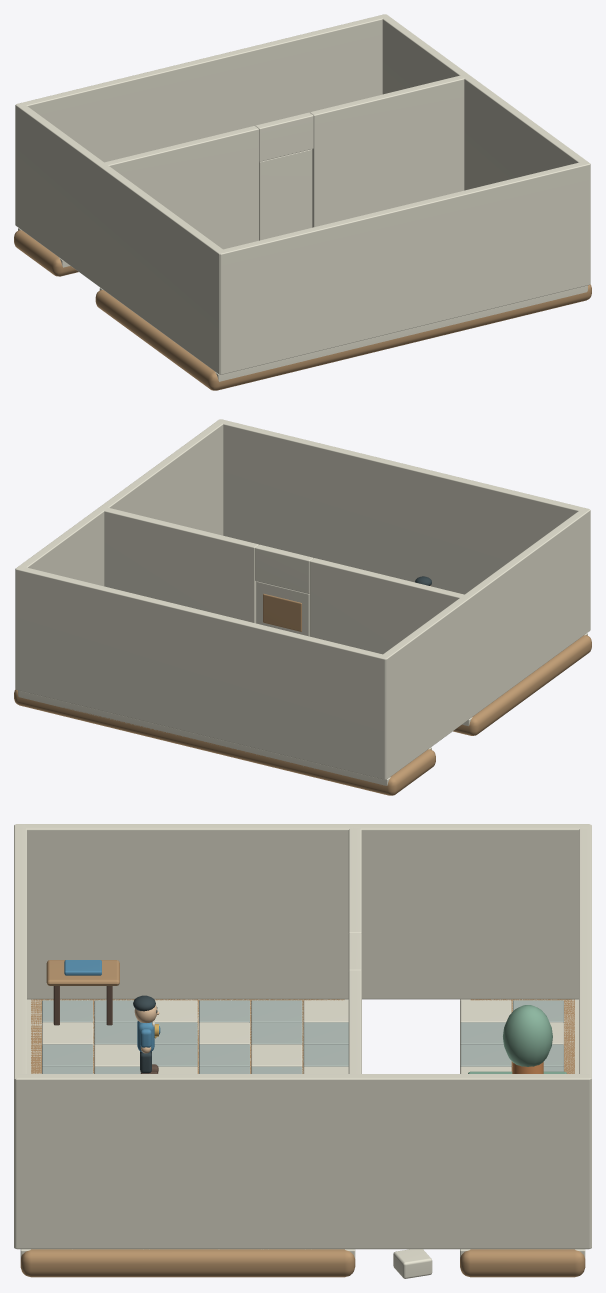
The model's file is room-2.glb.
The picture shows the model from 3 angles, top to bottom: view 1: azimuth 30°, elevation 25°; view 2: azimuth 150°, elevation 25°; view 3: azimuth 270°, elevation 25°; orthographic projection. The views are drawn at different scales.
Visible parts, largest first — view 1: static_room_Ivory plaster.001, 走廊栏墙, 右侧墙, static_room_Honey oak.001, 门板; view 2: static_room_Ivory plaster.001, 走廊栏墙, 右侧墙, static_room_Honey oak.001, 门板, door_intact_Honey oak.001; view 3: static_room_Ivory plaster.001, 右侧墙, static_room_Quiet tile.001, static_room_Honey oak.001, 走廊栏墙, destination_courtyard_Sage uniform.001, body_a_sculpt, Closed casebook.
Part boxes in pixels (<box>): static_room_Ivory plaster.001: <box>15,14,587,381</box>; 走廊栏墙: <box>218,162,590,374</box>; 右侧墙: <box>380,14,590,283</box>; static_room_Honey oak.001: <box>14,230,591,390</box>; 门板: <box>259,149,312,240</box>; static_room_Ivory plaster.001: <box>15,507,590,785</box>; 走廊栏墙: <box>218,419,589,594</box>; 右侧墙: <box>15,419,225,688</box>; static_room_Honey oak.001: <box>14,635,591,795</box>; 门板: <box>256,581,309,636</box>; door_intact_Honey oak.001: <box>263,593,301,631</box>; static_room_Ivory plaster.001: <box>16,824,591,1278</box>; 右侧墙: <box>15,1074,590,1249</box>; static_room_Quiet tile.001: <box>42,1000,563,1073</box>; static_room_Honey oak.001: <box>20,960,585,1277</box>; 走廊栏墙: <box>14,824,26,1248</box>; destination_courtyard_Sage uniform.001: <box>468,1005,566,1073</box>; body_a_sculpt: <box>133,995,159,1052</box>; Closed casebook: <box>64,960,101,975</box>.
Bounding box in the file's own units: 11.9 × 5.12 × 11.05.
